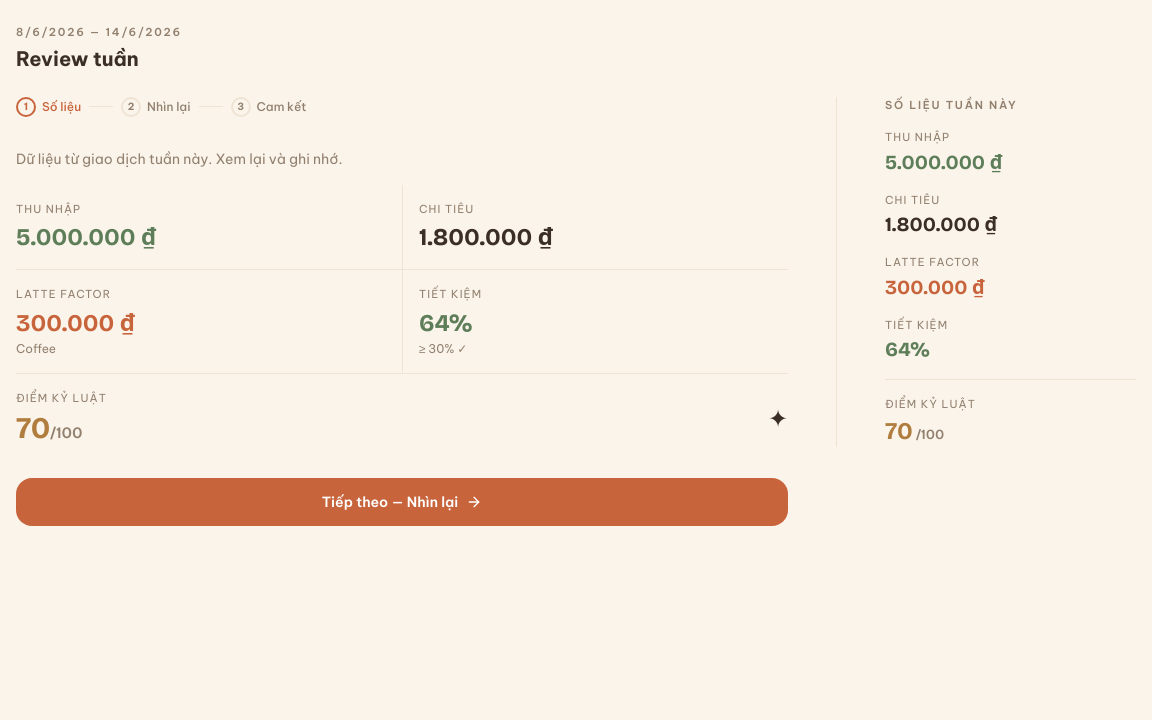
Test: WeeklyReview › saves trimmed notes and updates local caches
This screenshot has width=1152, height=720.
Note: Step 0 → Step 1
Click the button "Tiếp theo — Nhìn lại".
click(402, 502)  # box [16, 478, 788, 526]
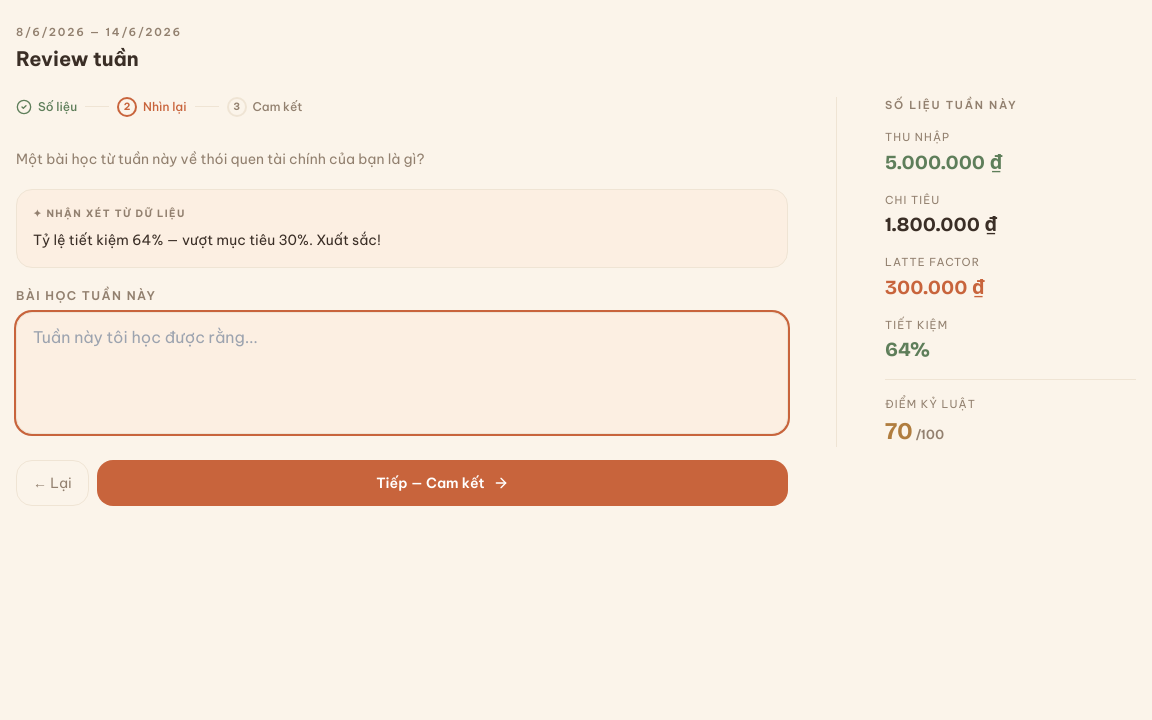
Note: type lesson
Type "  Cut delivery by half  " into the text box labelled "Bài học tuần này".
click(402, 373); type("  Cut delivery by half  ")  # box [16, 312, 788, 434]
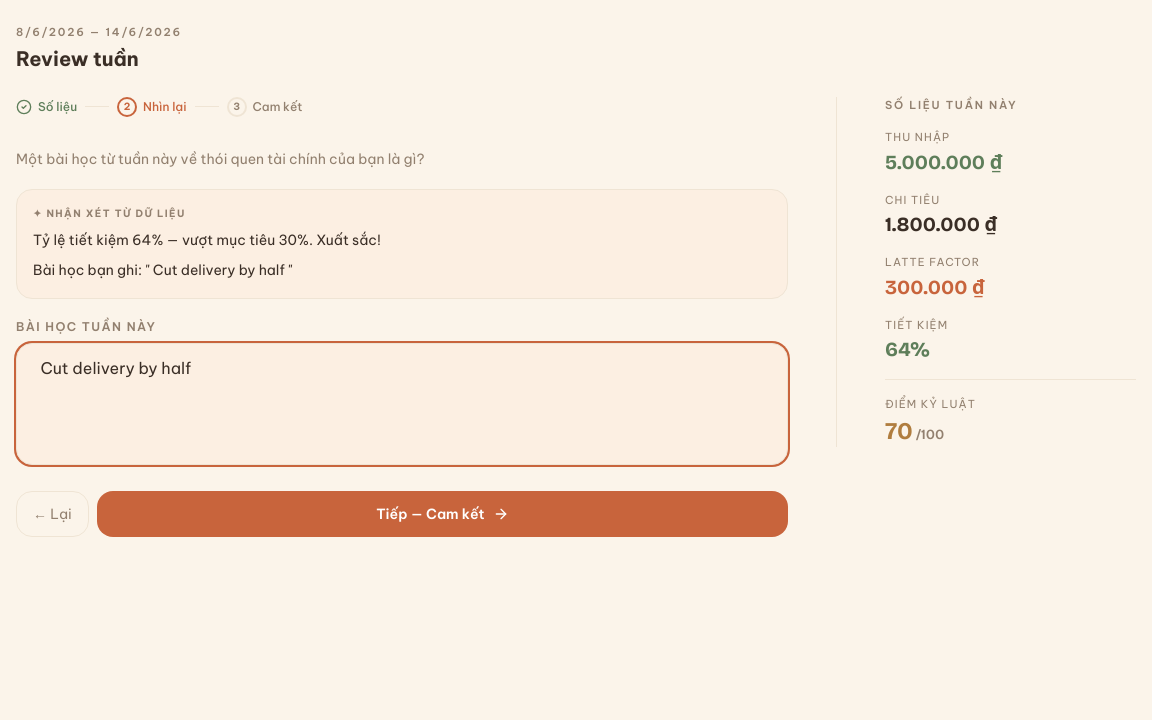
Note: Step 1 → Step 2
Click the button "Tiếp — Cam kết".
click(442, 514)  # box [97, 491, 788, 537]
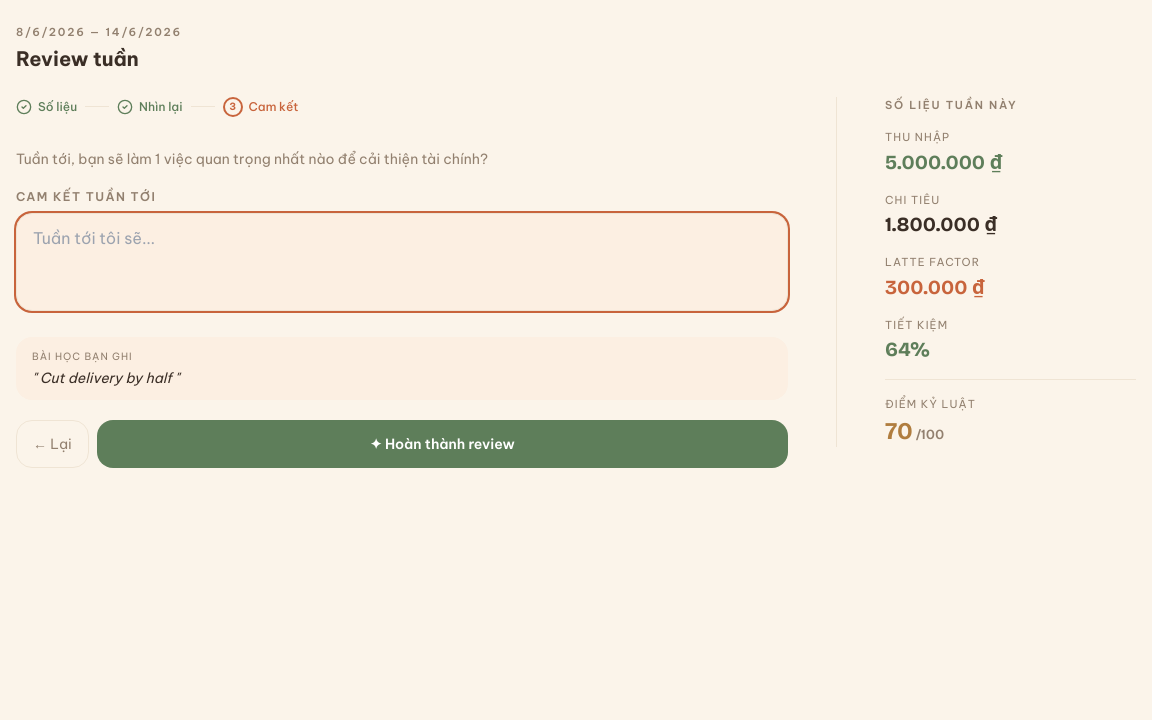
Note: type action
Type "  Transfer surplus on Monday  " into the text box labelled "Cam kết tuần tới".
click(402, 262); type("  Transfer surplus on Monday  ")  # box [16, 212, 788, 310]
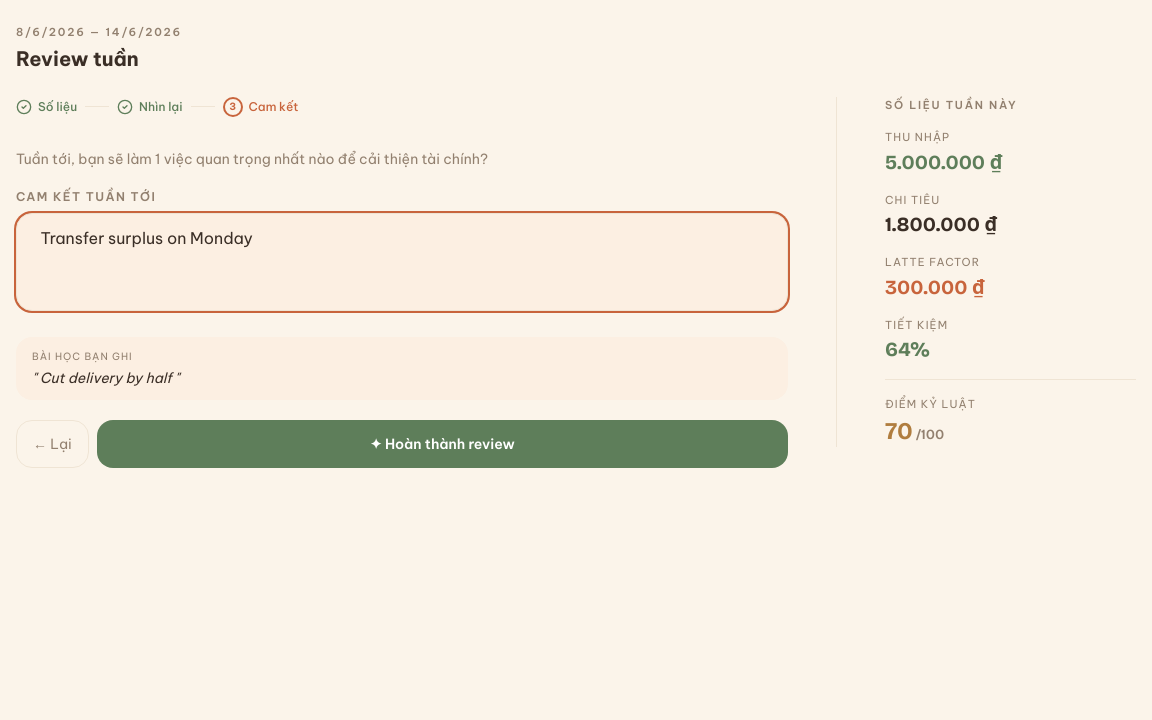
Click the button "✦ Hoàn thành review".
click(442, 444)  # box [97, 420, 788, 468]
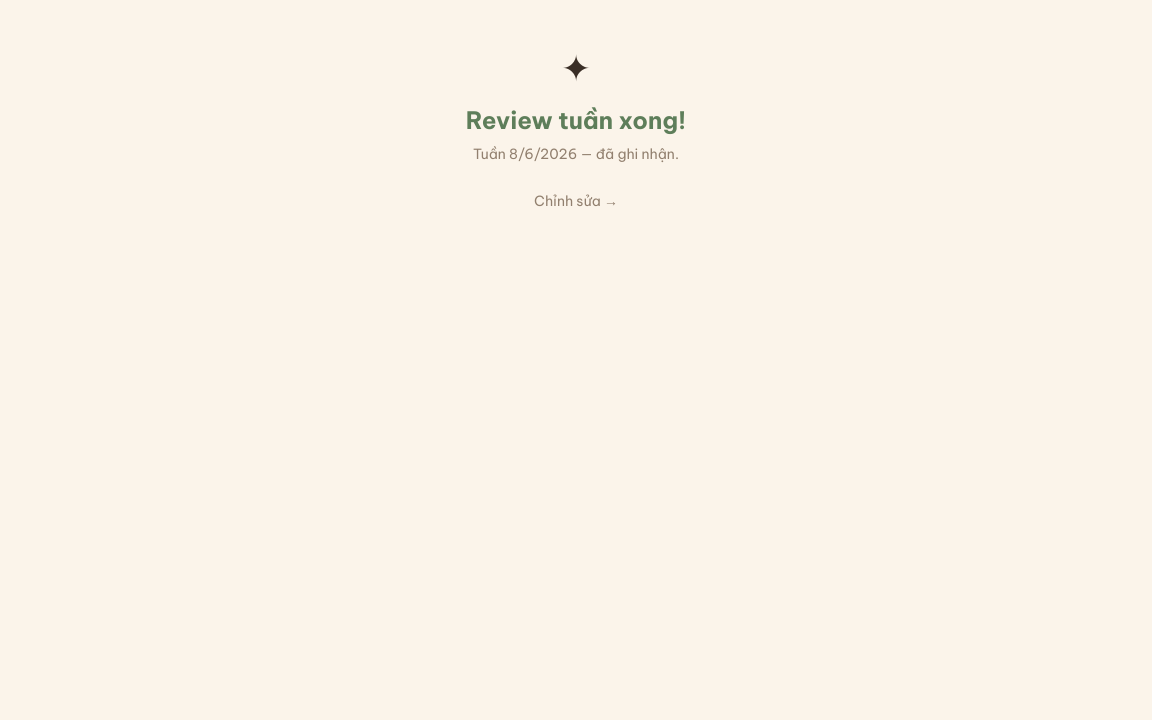
Now the heading "Review tuần xong!" is shown, box [466, 105, 686, 135]
